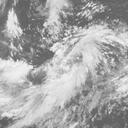cyclone: (40, 30, 105, 86)
